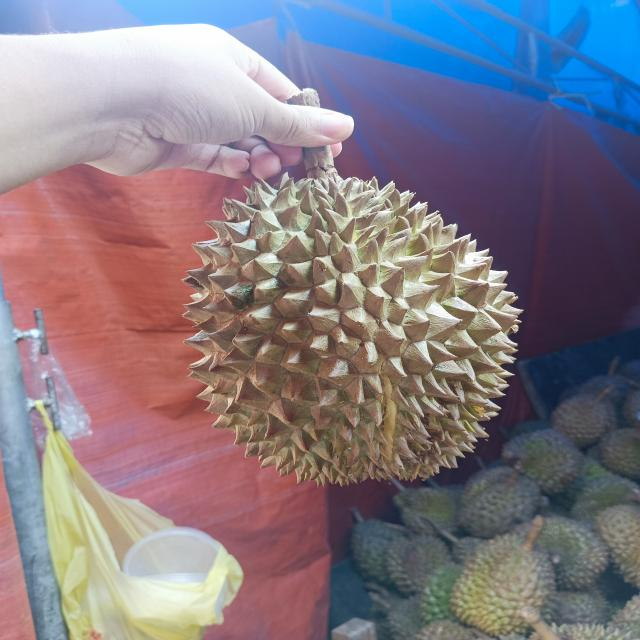mature: (179, 169, 521, 482)
